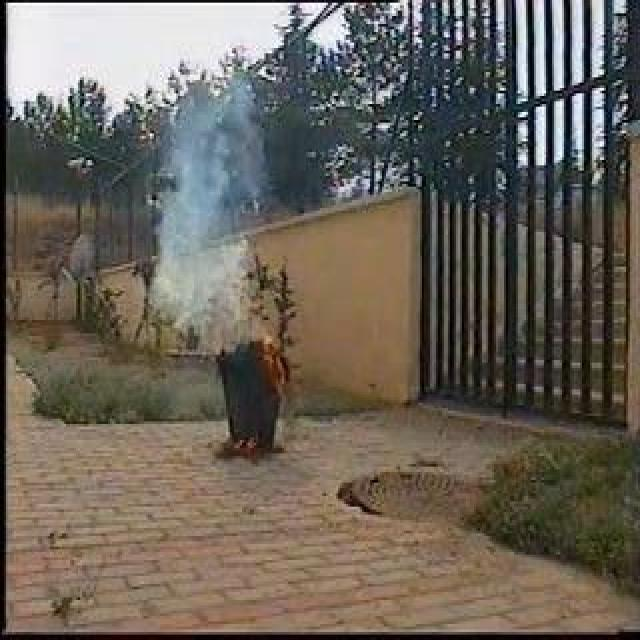fire: (254, 336, 294, 372)
smoke: (160, 83, 252, 314)
